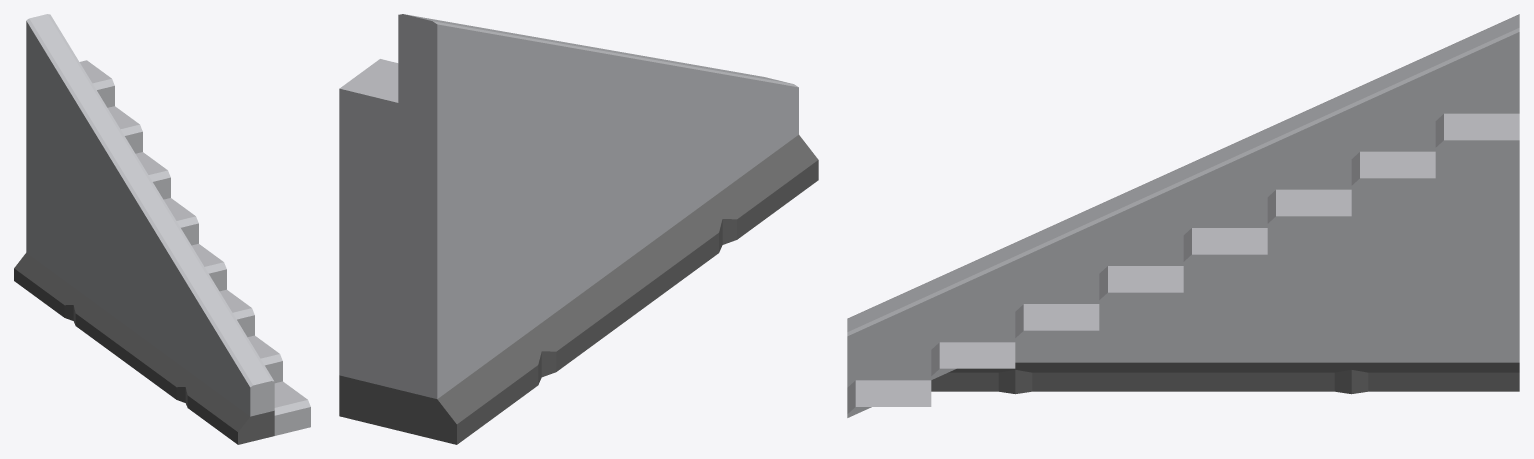
File: Stairs_Long_Modular_Left.fbx
The picture shows the model from 3 angles, left to right: view 1: azimuth 30°, elevation 25°; view 2: azimuth 150°, elevation 25°; view 3: azimuth 270°, elevation 25°; orthographic projection. The views are drawn at different scales.
Parts seen in each view (by area): view 1: Stairs_Long_Modular_Left; view 2: Stairs_Long_Modular_Left; view 3: Stairs_Long_Modular_Left.
Boxes of the visible parts, x1=… form: Stairs_Long_Modular_Left: x1=14, y1=14, x2=310, y2=444; Stairs_Long_Modular_Left: x1=339, y1=14, x2=818, y2=444; Stairs_Long_Modular_Left: x1=847, y1=14, x2=1519, y2=417.
Size of the model in its own units: 0.291 by 0.9894 by 1.55.
1 material, 1 textured.
